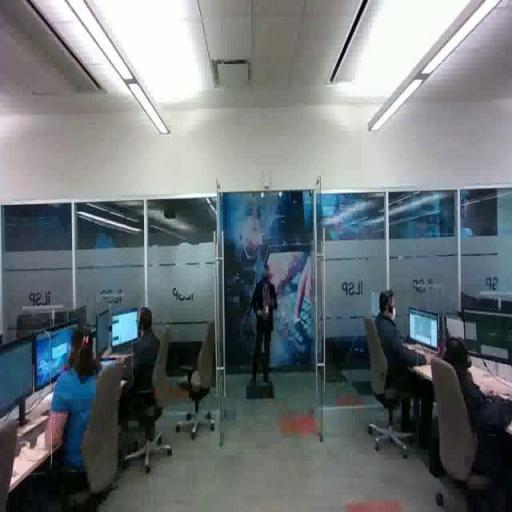person: (39, 321, 131, 501), (438, 325, 512, 506), (364, 283, 432, 437), (107, 304, 168, 444), (252, 262, 281, 388)
